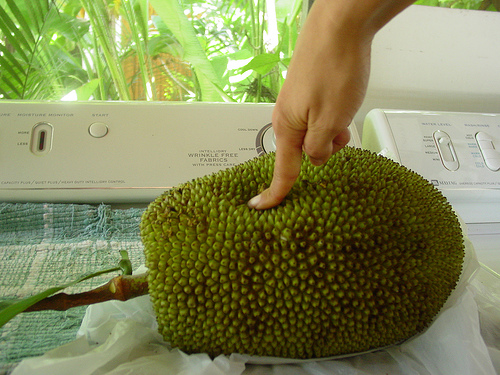jackfruit: (0, 146, 465, 356)
